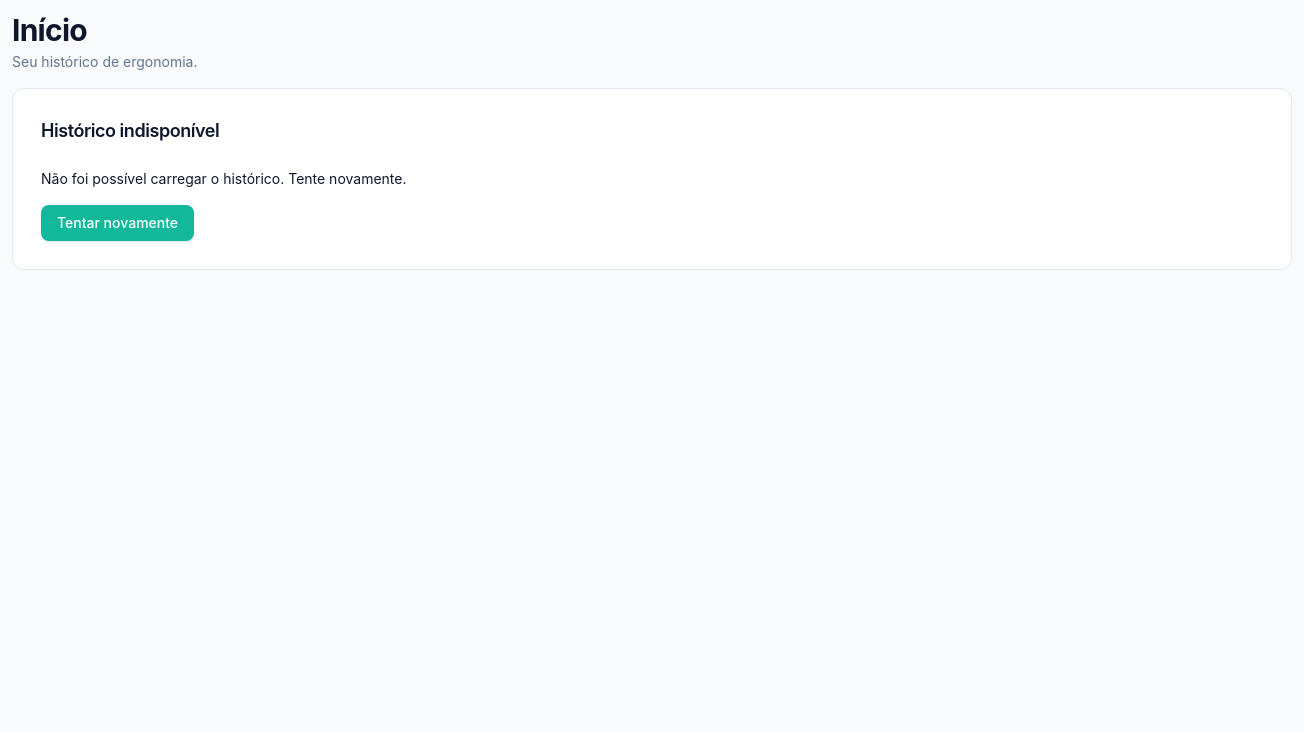
Test: persisted dashboard UI › shows an error and can retry without fabricated metrics
Expected: the message "Não foi possível carregar o histórico. Tente novamente." is shown, 41,170 -> 406,187
Expected: the text "Tempo em boa postura" is not shown
Click the button "Tentar novamente".
click(118, 223)  # box 41,205 -> 194,241
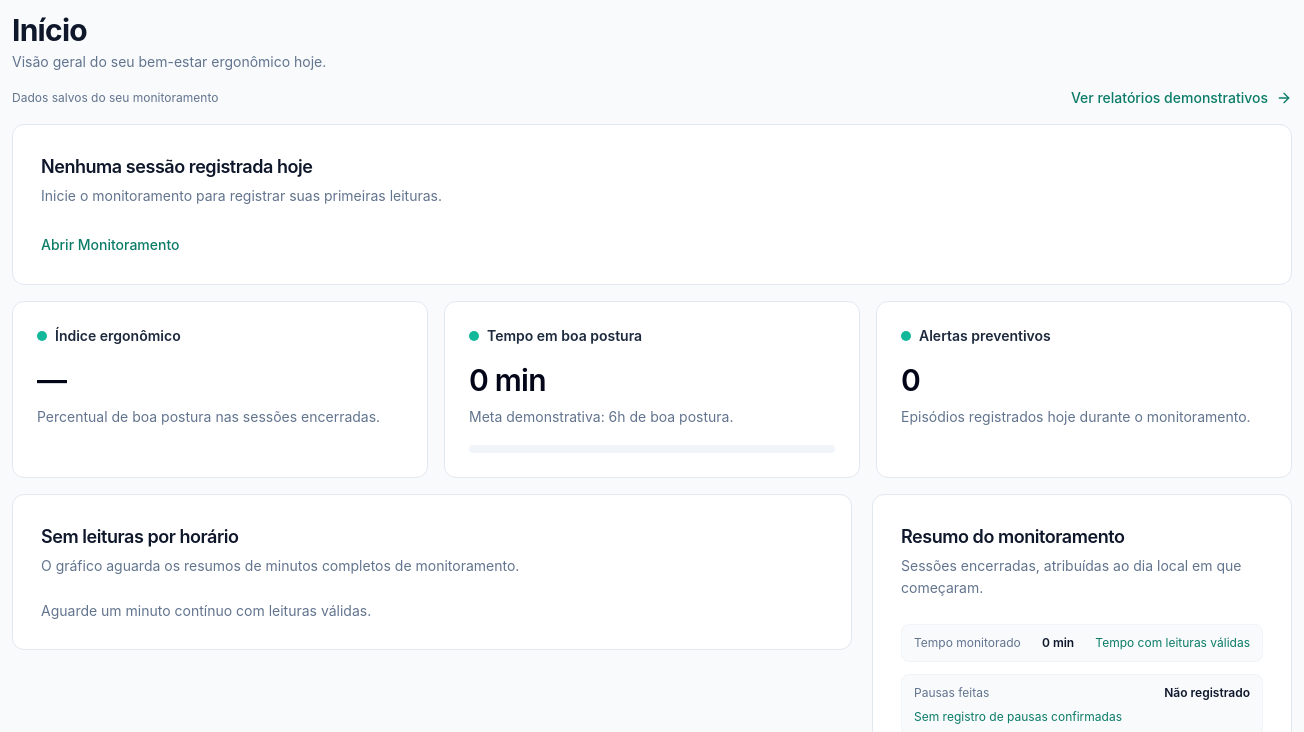
Result: the text "Nenhuma sessão registrada hoje" is shown at 41,156 -> 312,177
